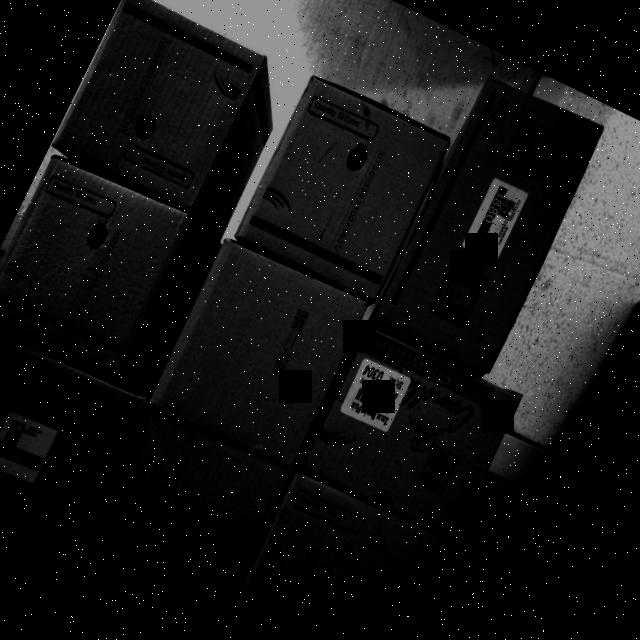box: (366, 70, 612, 379), (148, 233, 376, 472), (71, 392, 299, 626), (232, 68, 456, 303), (300, 319, 529, 541), (48, 0, 272, 216), (0, 151, 197, 390), (220, 464, 454, 640), (0, 311, 149, 555)
